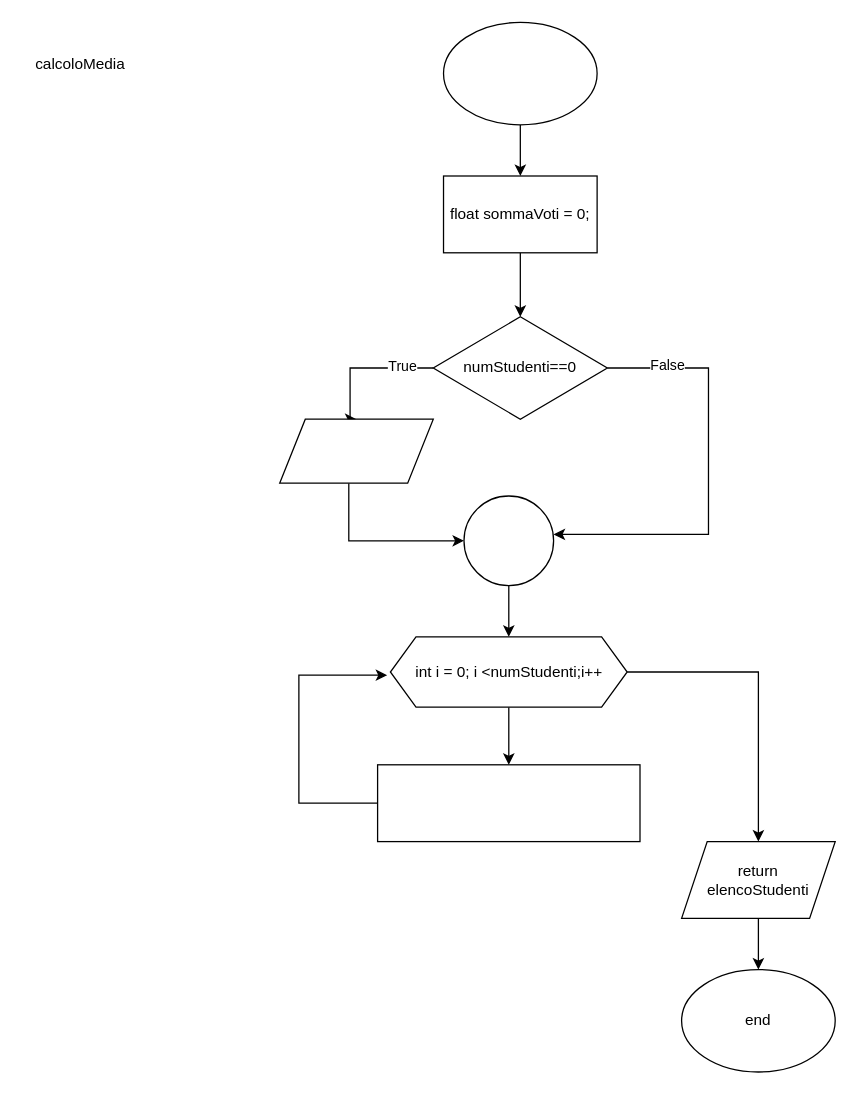
Image size: 858x1094. Some labels were removed from this diagram. Each missing label, with the centre of its shape:
return 0: pixel 355 450
sommaVoti +=elencoStudenti[i].getVotoMedio(): pixel 508 803
Start: pixel 519 73
